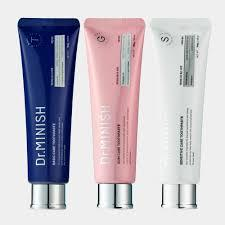toothpaste: (14, 11, 80, 216), (80, 12, 142, 212), (150, 8, 210, 212)
